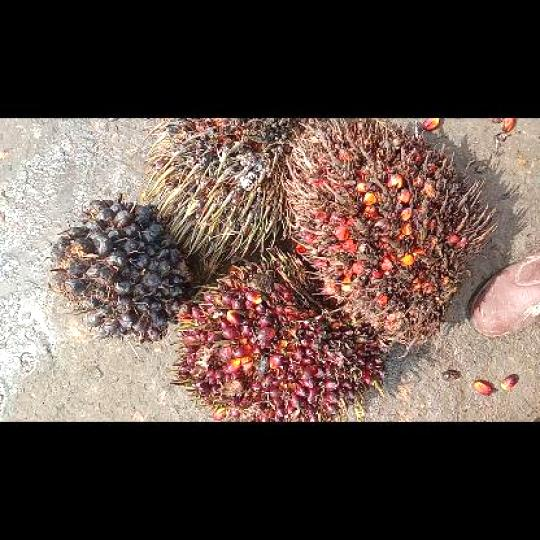masak: (173, 255, 386, 420)
terlalu masak: (288, 117, 499, 344)
